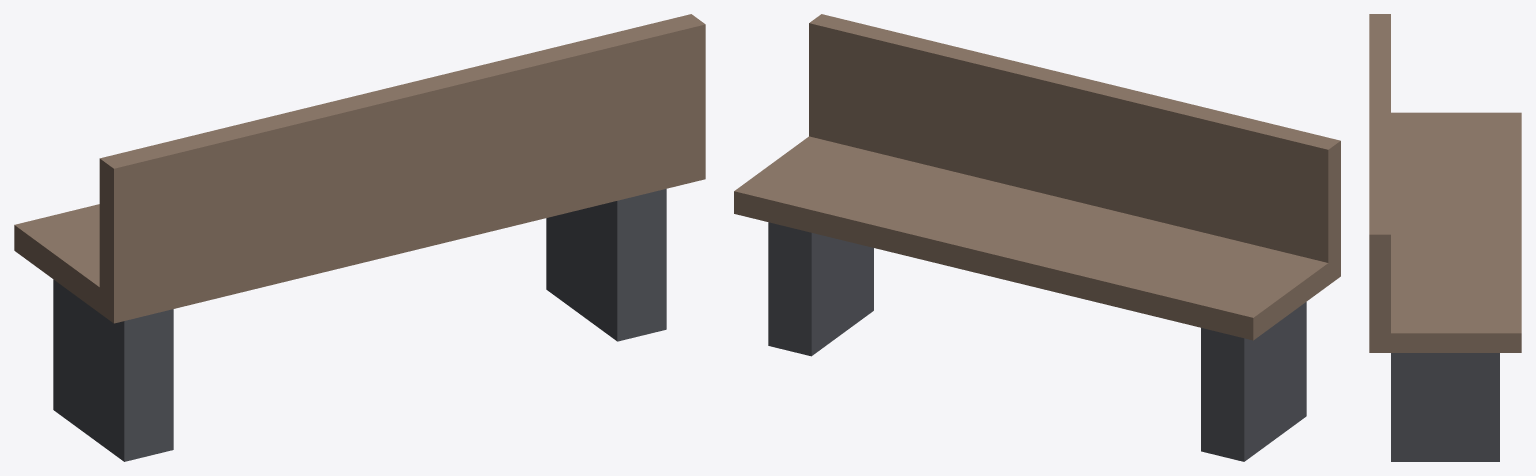
Rendered from banc.glb.
The picture shows the model from 3 angles, left to right: view 1: azimuth 30°, elevation 25°; view 2: azimuth 150°, elevation 25°; view 3: azimuth 270°, elevation 25°; orthographic projection. The views are drawn at different scales.
Parts seen in each view (by area): view 1: main; view 2: main; view 3: main.
Part boxes in pixels (left/top/right/bottom): main: left=14, top=14, right=705, bottom=461; main: left=734, top=14, right=1340, bottom=461; main: left=1369, top=14, right=1521, bottom=461.
Bounding box in the file's own units: 1.5 × 0.75 × 0.4375.
